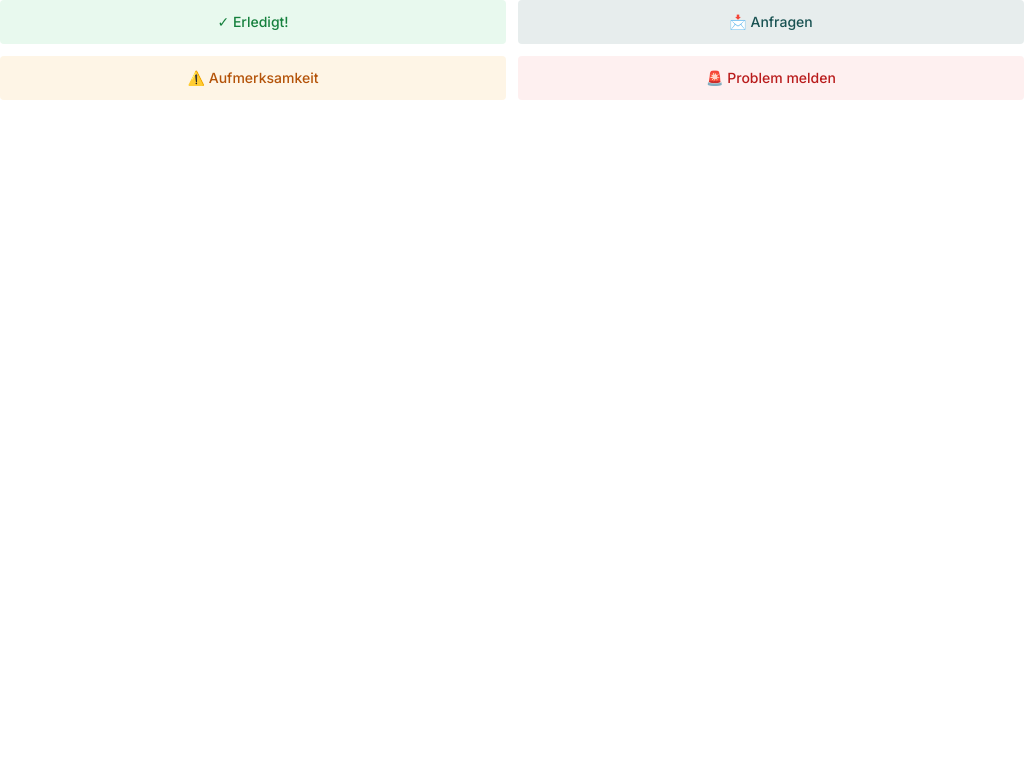
ChoreActions › opens the complete modal when the complete button is clicked
What coordinates should you click on to do the following:
click the button "✓ Erledigt!"
I would click on:
 (253, 22)
Its box is [0,0,506,44].
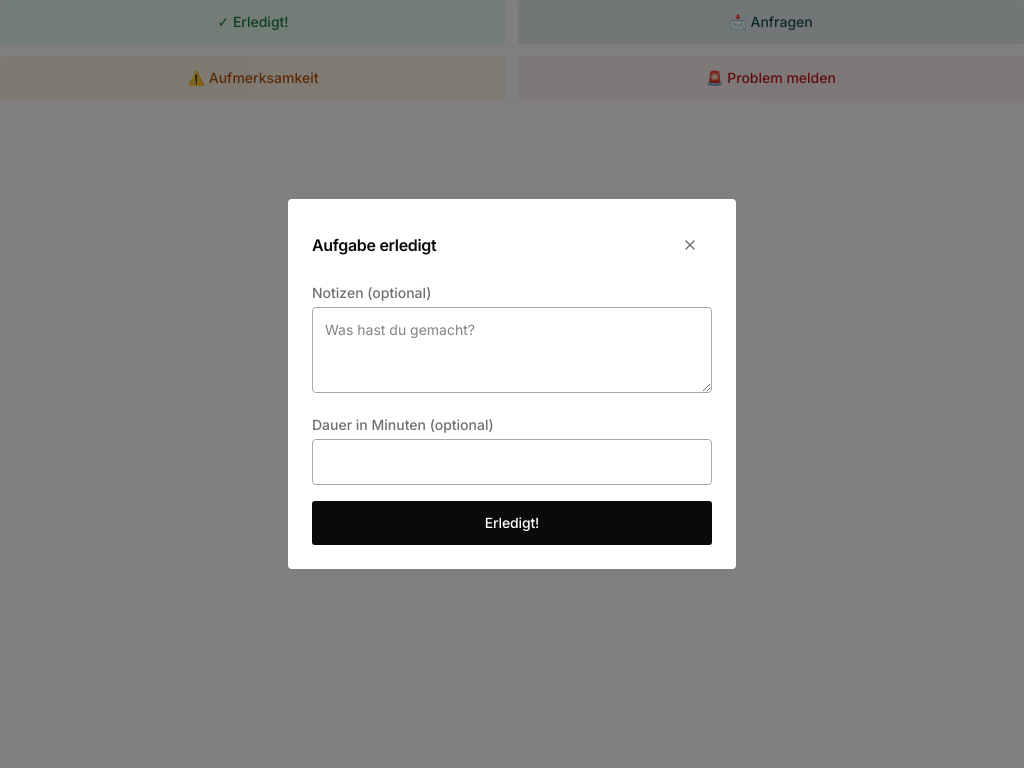
Now the heading "Aufgabe erledigt" is shown, box [312,233,436,257]
Now the text "Notizen (optional)" is shown, box [312,284,431,301]
